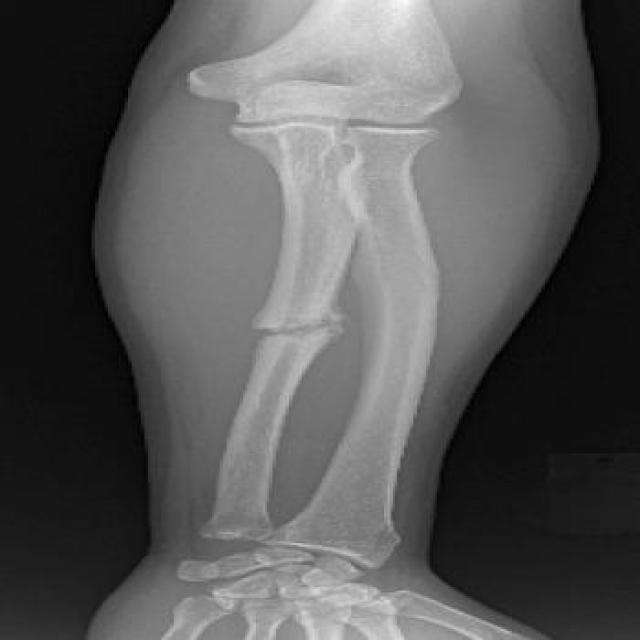Fracture: (230, 309, 362, 347)
